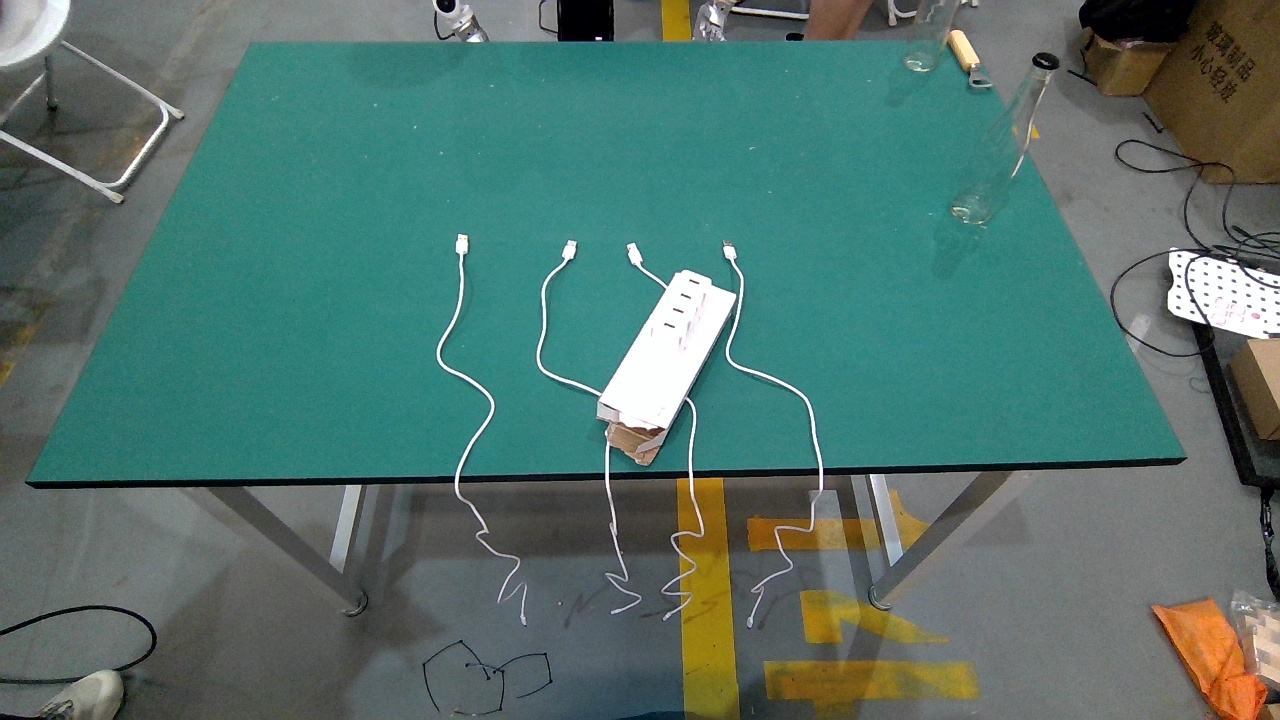usb_a_port: (736, 561, 759, 577), (731, 523, 758, 536), (675, 560, 702, 572), (796, 564, 820, 576), (670, 524, 695, 535), (791, 523, 812, 535)
